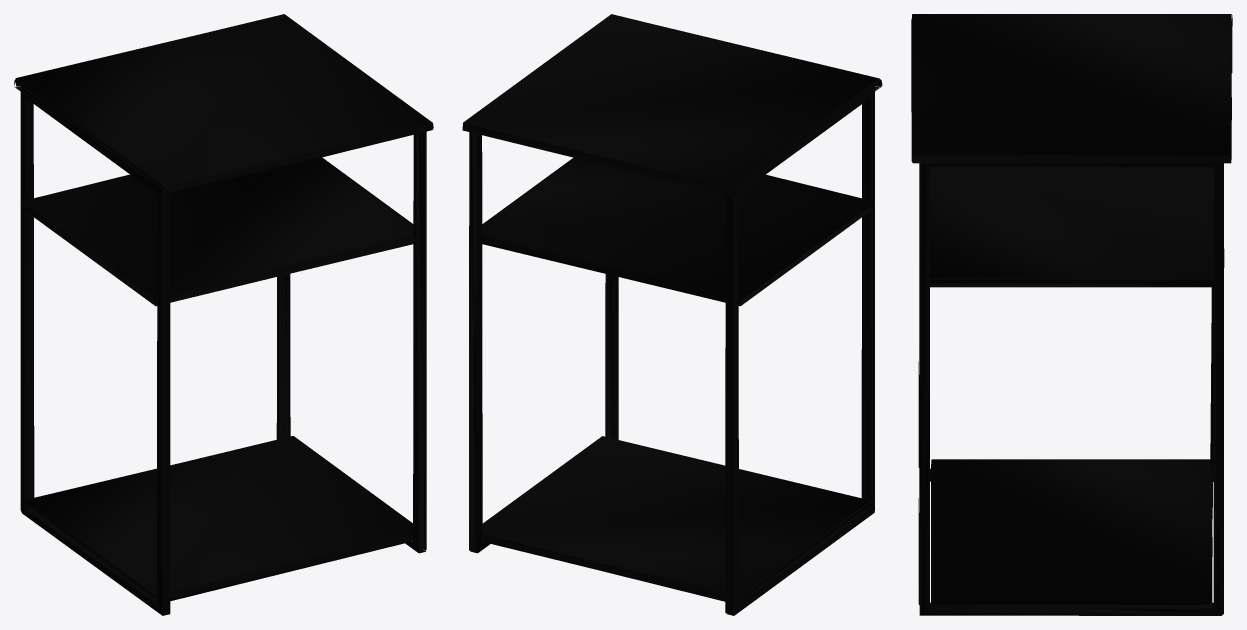
The picture shows the model from 3 angles, left to right: view 1: azimuth 30°, elevation 25°; view 2: azimuth 150°, elevation 25°; view 3: azimuth 270°, elevation 25°; orthographic projection. The views are drawn at different scales.
Parts seen in each view (by area): view 1: Object001_Object001_mtl_0; view 2: Object001_Object001_mtl_0; view 3: Object001_Object001_mtl_0.
Boxes of the visible parts, <box> form: Object001_Object001_mtl_0: <box>14,14,433,615</box>; Object001_Object001_mtl_0: <box>462,14,882,615</box>; Object001_Object001_mtl_0: <box>911,14,1232,615</box>.
Bounding box in the file's own units: 16.85 × 25.64 × 16.12.
Materials: 1 (1 with a texture image).
